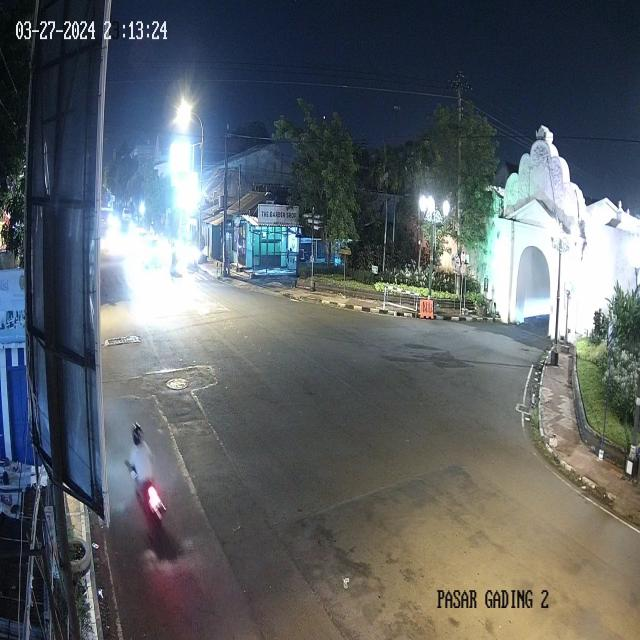car: (142, 232, 162, 270), (123, 206, 131, 224)
motorcycle: (120, 413, 170, 554)
